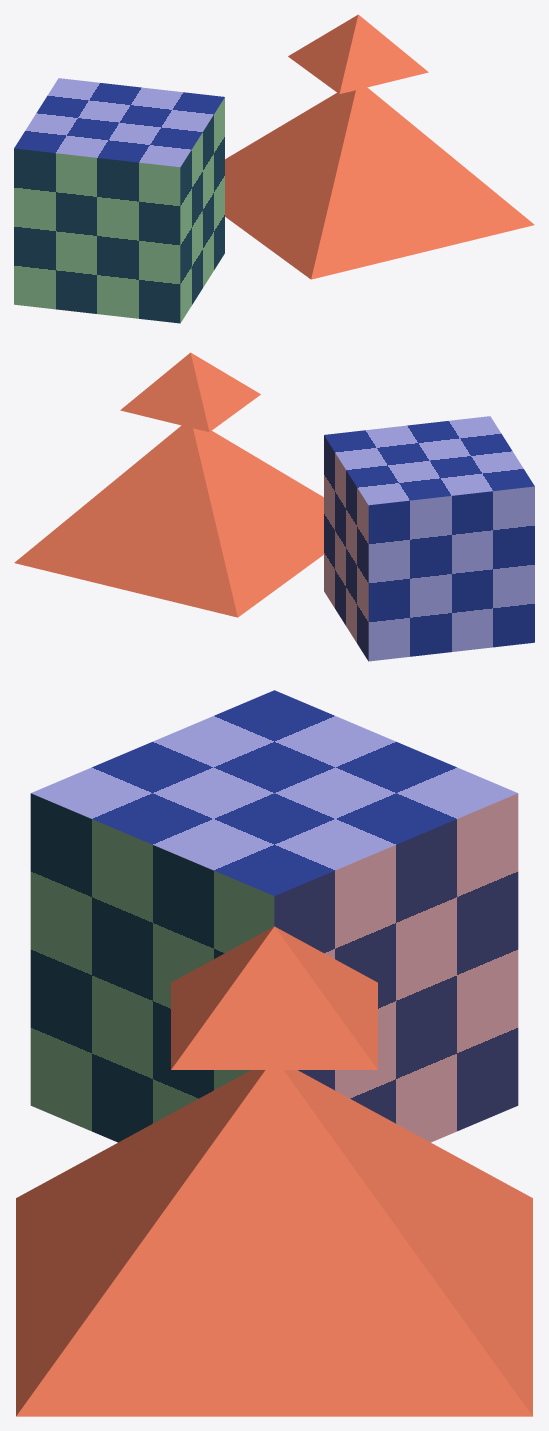
3 renders of one model, top to bottom at view 1: azimuth 30°, elevation 25°; view 2: azimuth 150°, elevation 25°; view 3: azimuth 270°, elevation 25°, orthographic. The views are drawn at different scales.
Visible parts, largest first — view 1: Cube, Pyramid, Tip Pyramid; view 2: Cube, Pyramid, Tip Pyramid; view 3: Cube, Pyramid, Tip Pyramid.
Boxes of the visible parts, x1,y1,x2,y2 form: Cube: (14, 78, 224, 323); Pyramid: (225, 87, 534, 279); Tip Pyramid: (288, 14, 428, 94); Cube: (324, 416, 534, 661); Pyramid: (14, 425, 323, 617); Tip Pyramid: (120, 352, 260, 432); Cube: (30, 690, 518, 1142); Pyramid: (16, 1070, 532, 1416); Tip Pyramid: (171, 926, 377, 1069).
Bounding box in the file's own units: 3.06 × 1.32 × 1.5.
Materials: 2 (1 with a texture image).
